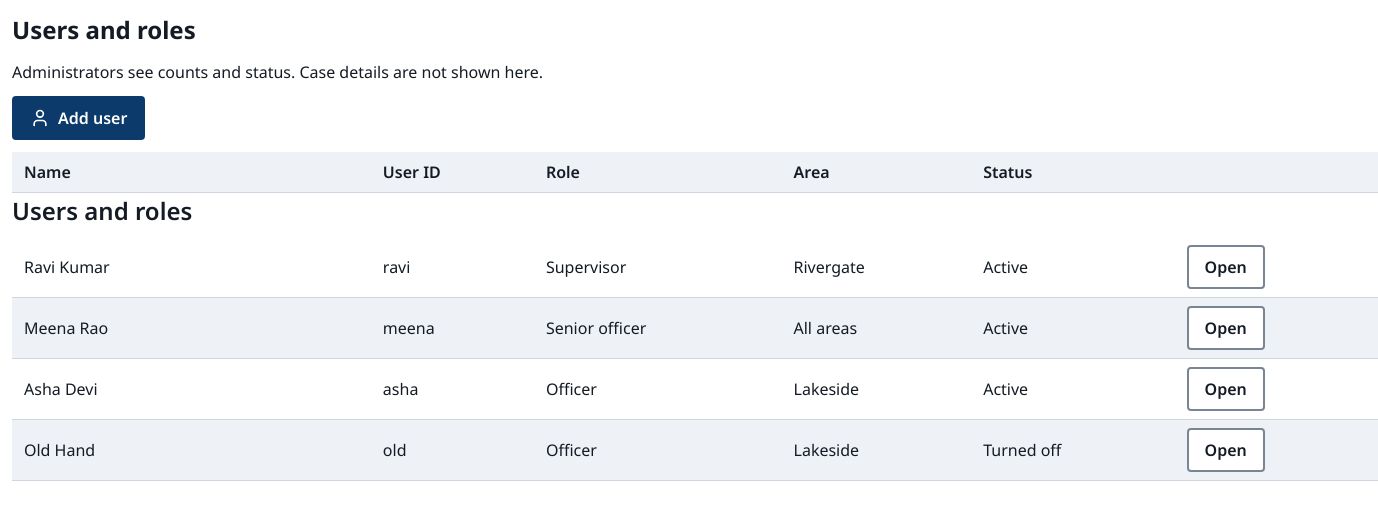
Test case: ADMIN: rendering the list makes exactly four calls and reads no single user
The image size is (1378, 529).
Expected: the text "Ravi Kumar" is shown, [12,237,371,298]
Click the button "Open" in the row of "Ravi Kumar" at [1226, 267], box [1187,245,1265,289]
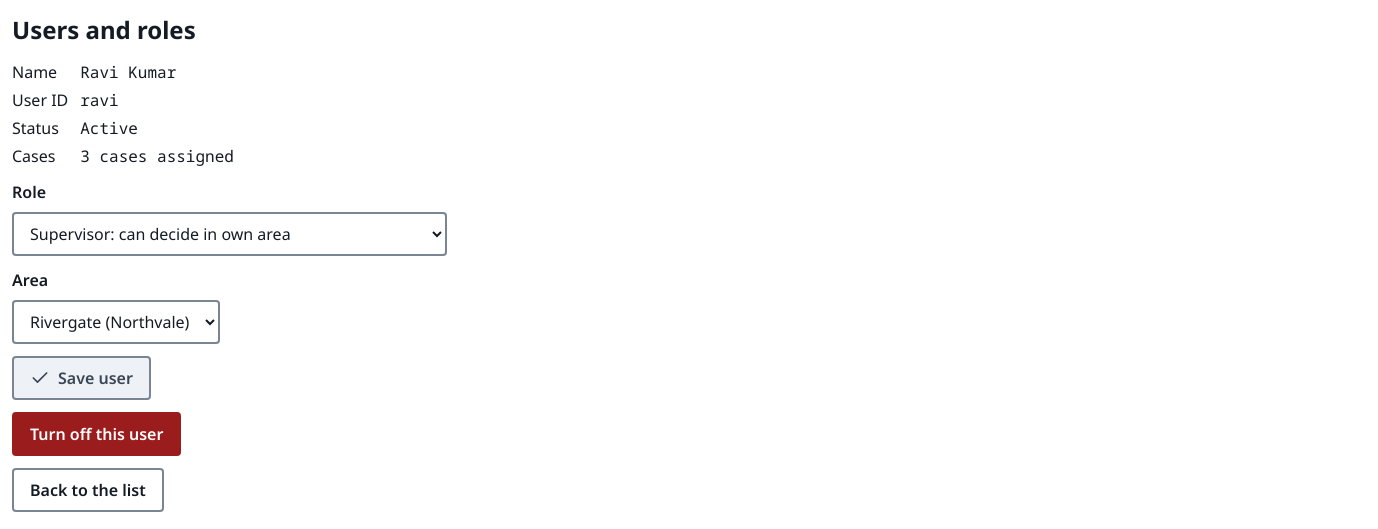
Expected: the text "Ravi Kumar" is shown, [80,61,176,83]
Now the button "Back to the list" is shown, box [12,468,164,512]
